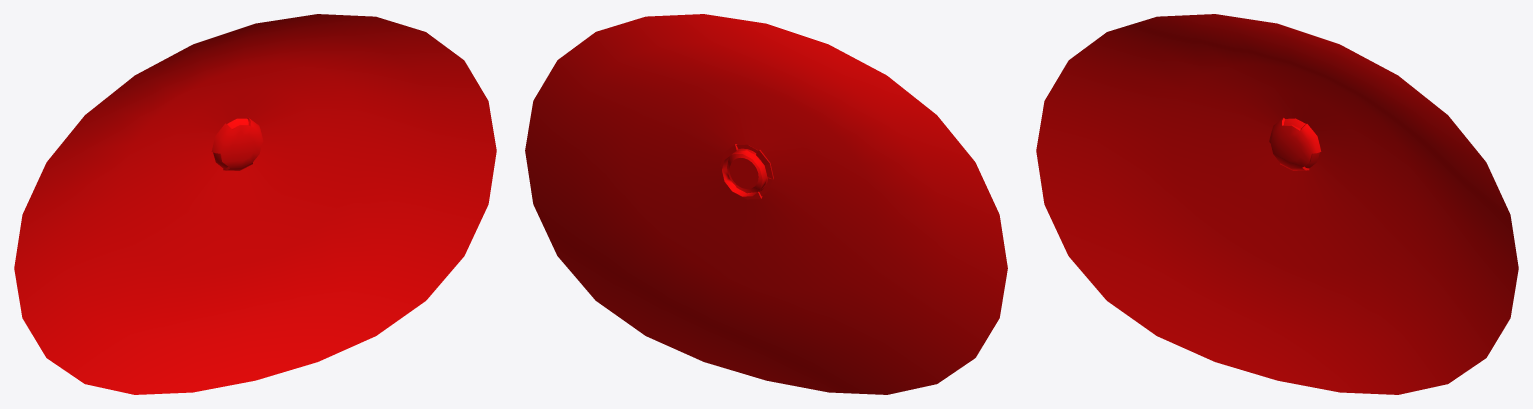
File: MeshPsSinkbasin_13_1.obj
3 views of the same model, side by side, from view 1: azimuth 30°, elevation 25°; view 2: azimuth 150°, elevation 25°; view 3: azimuth 330°, elevation 25° (orthographic).
Visible parts, largest first — view 1: PsSinkbasin_13; view 2: PsSinkbasin_13; view 3: PsSinkbasin_13.
Boxes of the visible parts, x1=… form: PsSinkbasin_13: x1=14, y1=14, x2=496, y2=394; PsSinkbasin_13: x1=525, y1=14, x2=1007, y2=394; PsSinkbasin_13: x1=1036, y1=14, x2=1518, y2=394.
Size of the model in its own units: 0.3632 by 0.2567 by 0.0317.
